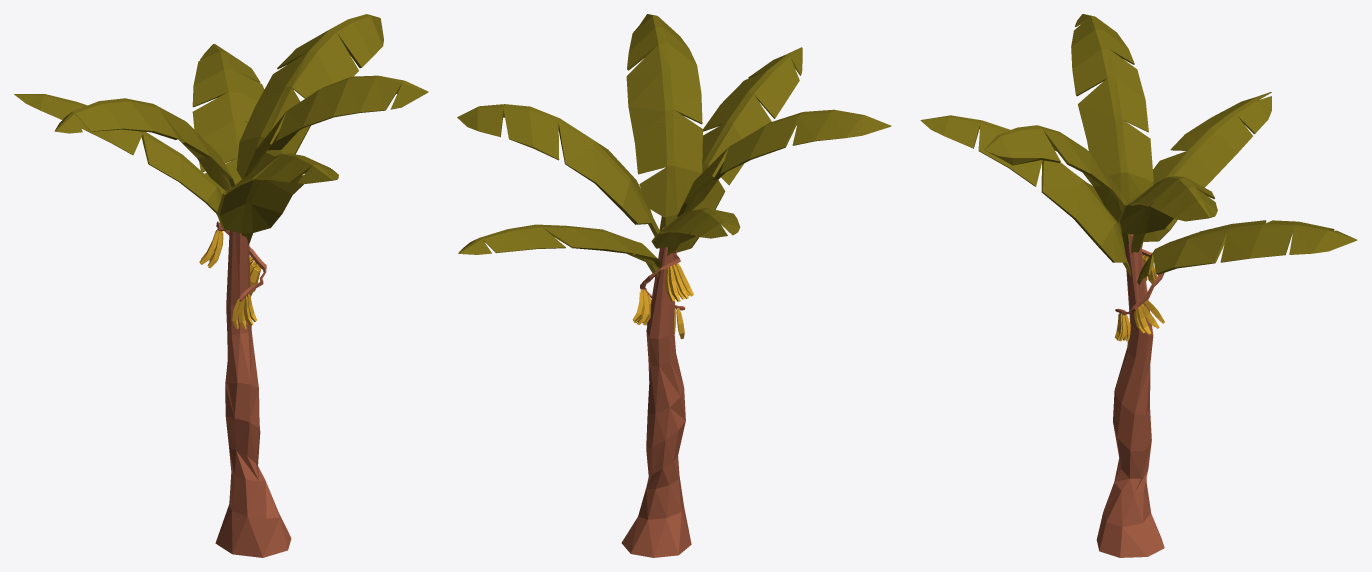
The model's file is BananaTree_3.fbx.
3 renders of one model, left to right at view 1: azimuth 30°, elevation 25°; view 2: azimuth 150°, elevation 25°; view 3: azimuth 270°, elevation 25°, orthographic. The views are drawn at different scales.
Parts seen in each view (by area): view 1: BananaTree_3; view 2: BananaTree_3; view 3: BananaTree_3.
Boxes of the visible parts, x1,y1,x2,y2 form: BananaTree_3: (14,14,428,557); BananaTree_3: (457,14,891,557); BananaTree_3: (920,14,1357,557).
Bounding box in the file's own units: 2.74 × 3.26 × 2.93.
